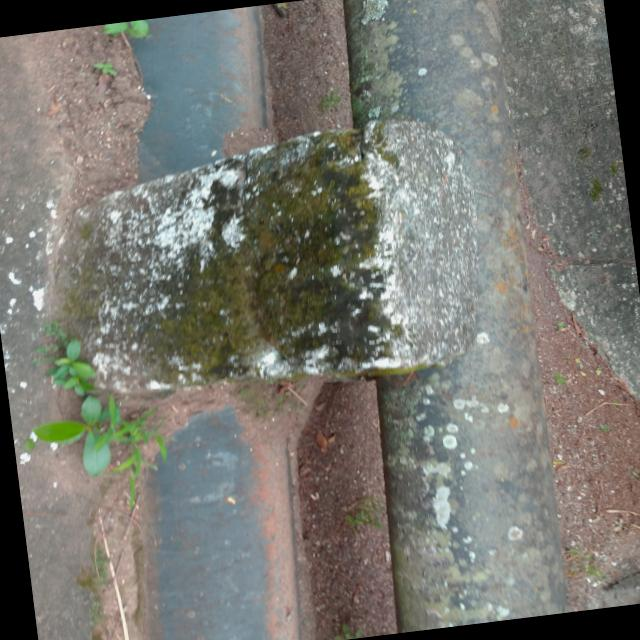gas: (335, 0, 572, 631)
